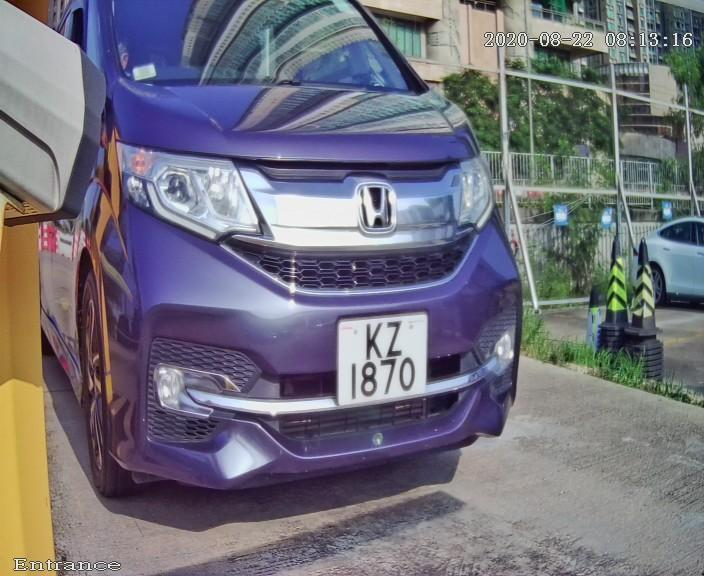License Plate: (327, 304, 434, 417)
